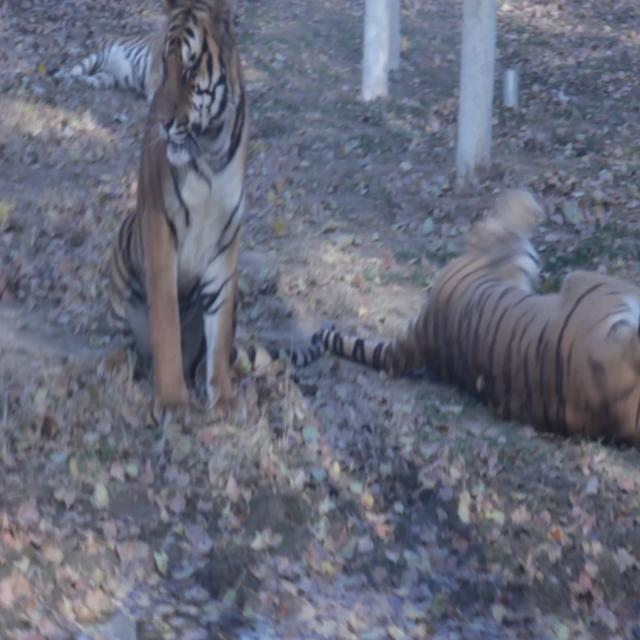Tiger: (331, 190, 639, 470), (106, 0, 270, 420)
